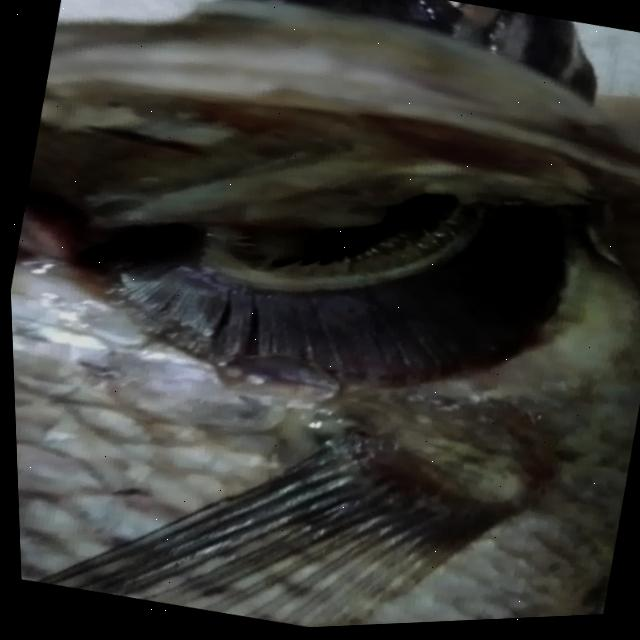Non-Fresh: (57, 95, 617, 449)
